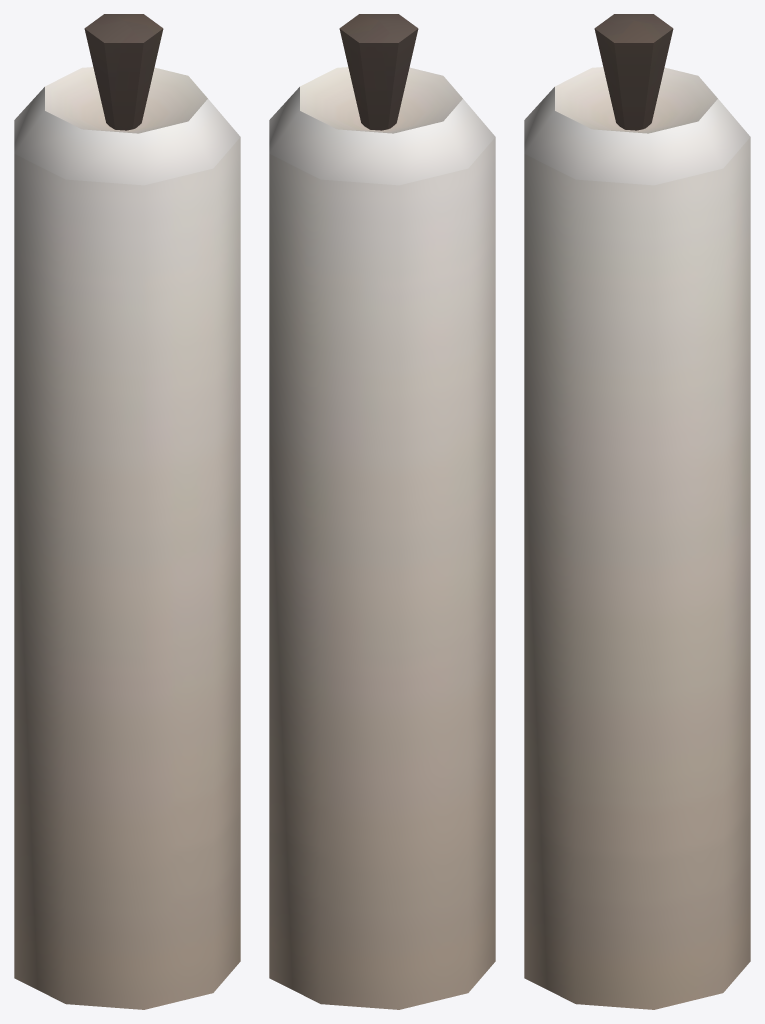
The model's file is candle_thin.glb.
3 views of the same model, side by side, from view 1: azimuth 30°, elevation 25°; view 2: azimuth 150°, elevation 25°; view 3: azimuth 270°, elevation 25° (orthographic).
Parts seen in each view (by area): view 1: candle_thin; view 2: candle_thin; view 3: candle_thin.
Part boxes in pixels (left/top/right/bottom): candle_thin: left=14, top=14, right=240, bottom=1009; candle_thin: left=269, top=14, right=495, bottom=1009; candle_thin: left=524, top=14, right=750, bottom=1009.
Bounding box in the file's own units: 0.1932 × 0.873 × 0.1902.
1 material, 1 textured.
